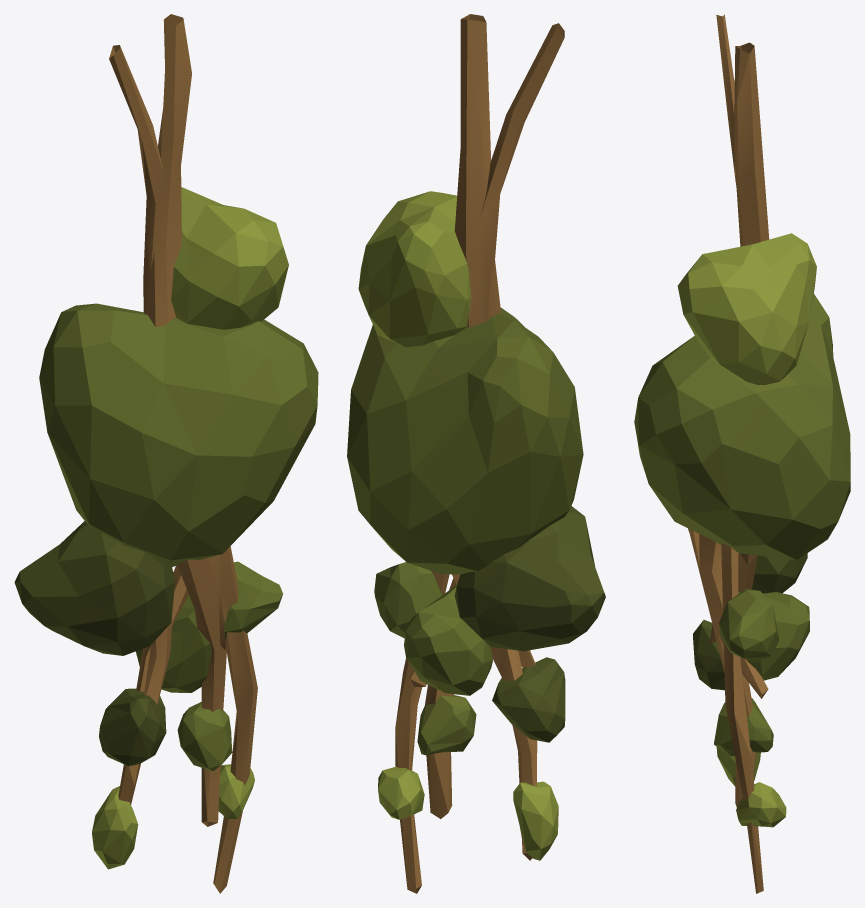
File: ea0_nature_tree_crow_04c_pre_lev1.glb
The picture shows the model from 3 angles, left to right: view 1: azimuth 30°, elevation 25°; view 2: azimuth 150°, elevation 25°; view 3: azimuth 270°, elevation 25°; orthographic projection. The views are drawn at different scales.
Visible parts, largest first — view 1: ea0_nature_tree_crow_04c_pre_lev1; view 2: ea0_nature_tree_crow_04c_pre_lev1; view 3: ea0_nature_tree_crow_04c_pre_lev1.
Boxes of the visible parts, x1=… form: ea0_nature_tree_crow_04c_pre_lev1: x1=14, y1=14, x2=318, y2=893; ea0_nature_tree_crow_04c_pre_lev1: x1=347, y1=14, x2=605, y2=893; ea0_nature_tree_crow_04c_pre_lev1: x1=634, y1=14, x2=850, y2=893.
Size of the model in its own units: 0.5744 by 1.88 by 0.4465.
Materials: 1 (1 with a texture image).
